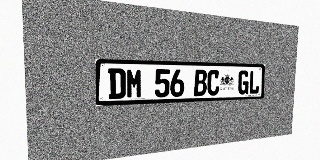5: (155, 69, 170, 98)
6: (170, 69, 185, 97)
B: (194, 70, 207, 96)
C: (207, 70, 220, 96)
D: (108, 68, 126, 99)
G: (238, 70, 249, 95)
L: (249, 71, 260, 94)
M: (126, 68, 143, 99)
